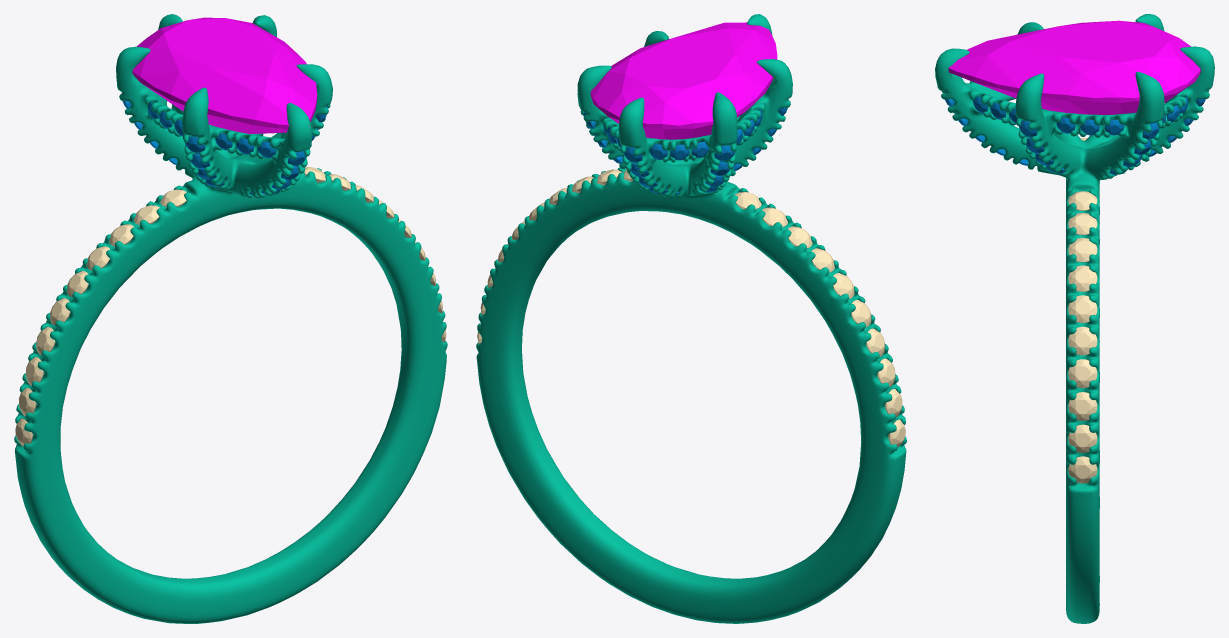
File: BE1D1260_PE_200ct_RENDER.glb
3 renders of one model, left to right at view 1: azimuth 30°, elevation 25°; view 2: azimuth 150°, elevation 25°; view 3: azimuth 270°, elevation 25°, orthographic.
Visible parts, largest first — view 1: Metal 01, CS_Diamond_Pear; view 2: Metal 01, CS_Diamond_Pear; view 3: Metal 01, CS_Diamond_Pear, Diamond_Round_Gem_SH.013, Diamond_Round_Gem_SH.012, Diamond_Round_Gem_SH.014, Diamond_Round_Gem_SH.011, Diamond_Round_Gem_SH.015, Diamond_Round_Gem_SH.010, Diamond_Round_Gem_SH.016, Diamond_Round_Gem_SH.017, Diamond_Round_Gem_SH.018, Diamond_Round_Gem_SH.019.
Boxes of the visible parts, x1=… form: Metal 01: x1=14, y1=14, x2=447, y2=623; CS_Diamond_Pear: x1=132, y1=17, x2=317, y2=134; Metal 01: x1=476, y1=14, x2=906, y2=623; CS_Diamond_Pear: x1=590, y1=22, x2=777, y2=139; Metal 01: x1=935, y1=14, x2=1214, y2=623; CS_Diamond_Pear: x1=948, y1=20, x2=1200, y2=114; Diamond_Round_Gem_SH.013: x1=1068, y1=359, x2=1097, y2=388; Diamond_Round_Gem_SH.012: x1=1068, y1=392, x2=1097, y2=420; Diamond_Round_Gem_SH.014: x1=1068, y1=326, x2=1097, y2=355; Diamond_Round_Gem_SH.011: x1=1068, y1=424, x2=1097, y2=452; Diamond_Round_Gem_SH.015: x1=1068, y1=295, x2=1097, y2=323; Diamond_Round_Gem_SH.010: x1=1068, y1=456, x2=1097, y2=483; Diamond_Round_Gem_SH.016: x1=1068, y1=265, x2=1097, y2=291; Diamond_Round_Gem_SH.017: x1=1068, y1=237, x2=1097, y2=262; Diamond_Round_Gem_SH.018: x1=1068, y1=213, x2=1097, y2=235; Diamond_Round_Gem_SH.019: x1=1068, y1=191, x2=1097, y2=210.
Bounding box in the file's own units: 20.09 × 25.52 × 11.57.
